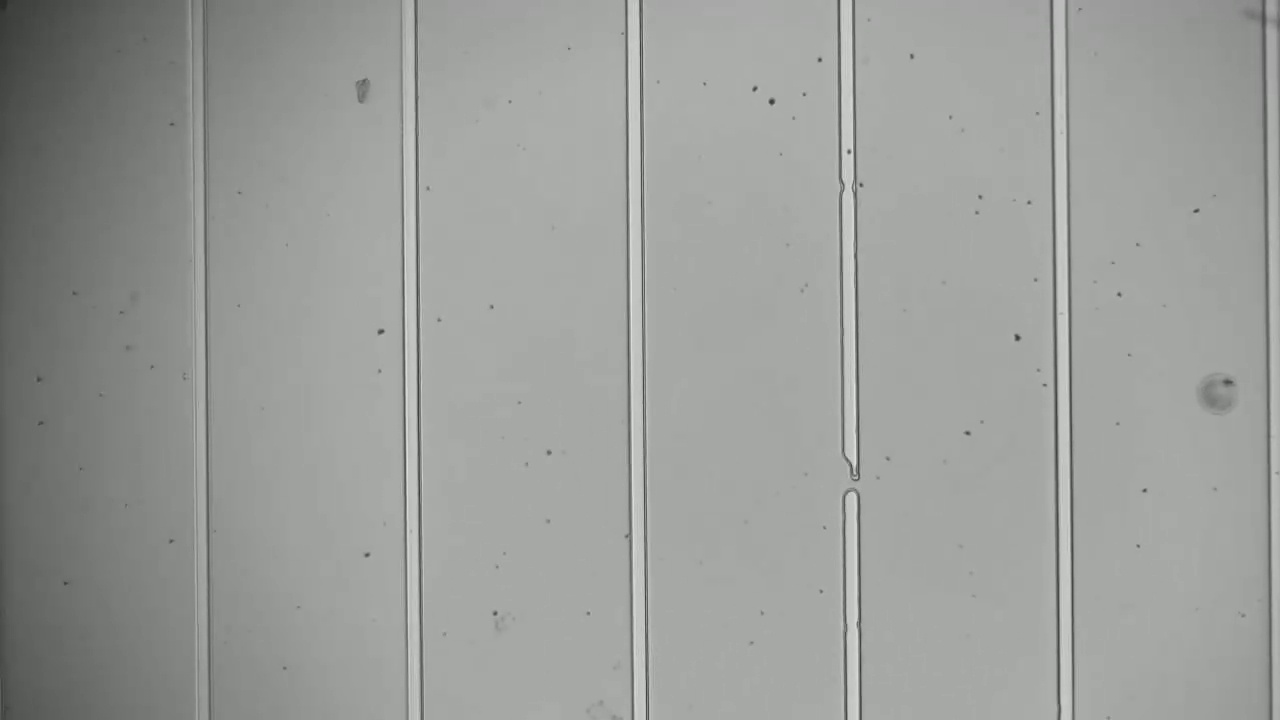edge_bite: (833, 166, 862, 205)
open: (831, 442, 868, 511)
